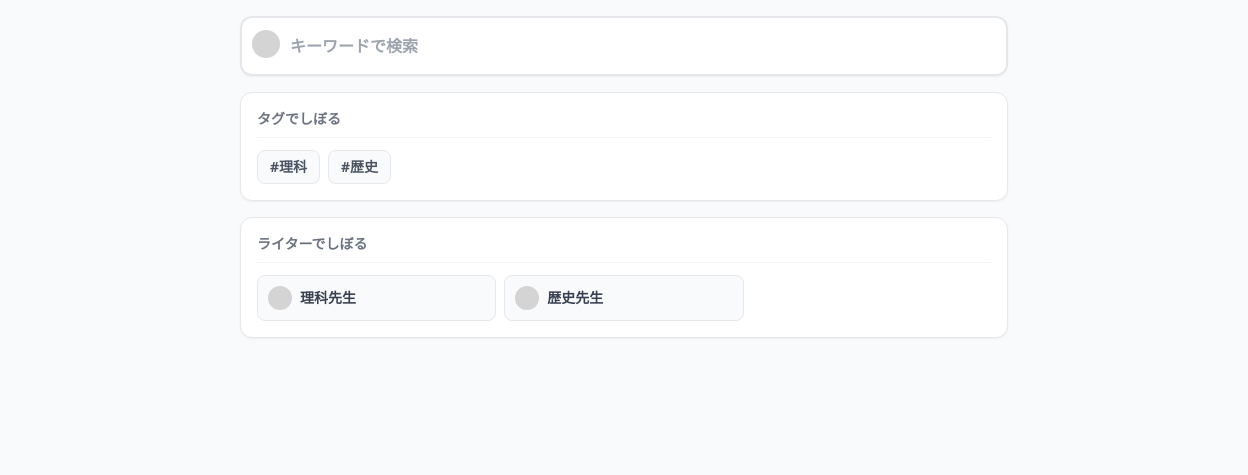
Test case: SearchView › filters articles by tag selection and writer selection
Click the button "#理科": [288, 167] box x1=257 y1=150 x2=320 y2=184
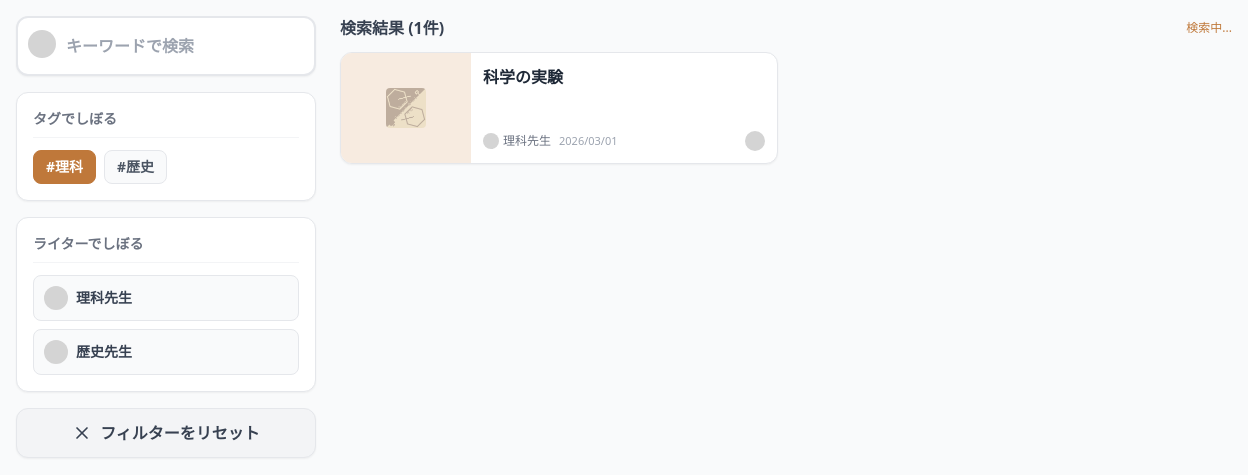
Expected: the text "検索結果 (1件)" is shown, x1=340 y1=16 x2=444 y2=40
Expected: the text "科学の実験" is shown, x1=483 y1=66 x2=563 y2=88
Expected: the button "フィルターをリセット" is shown
Click the button "フィルターをリセット": [166, 433] box x1=16 y1=408 x2=316 y2=458
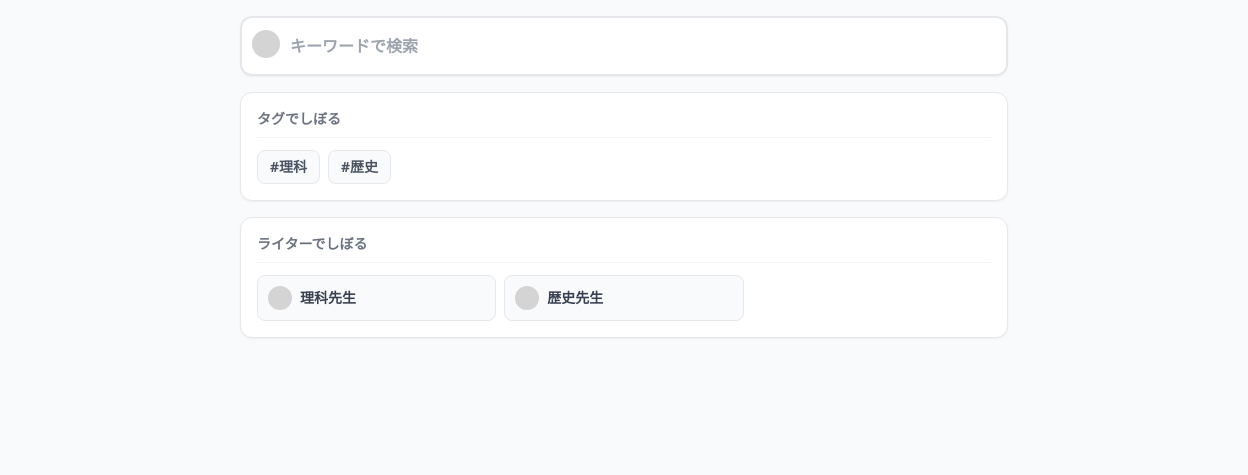
Expected: the text "検索結果 (" is gone
